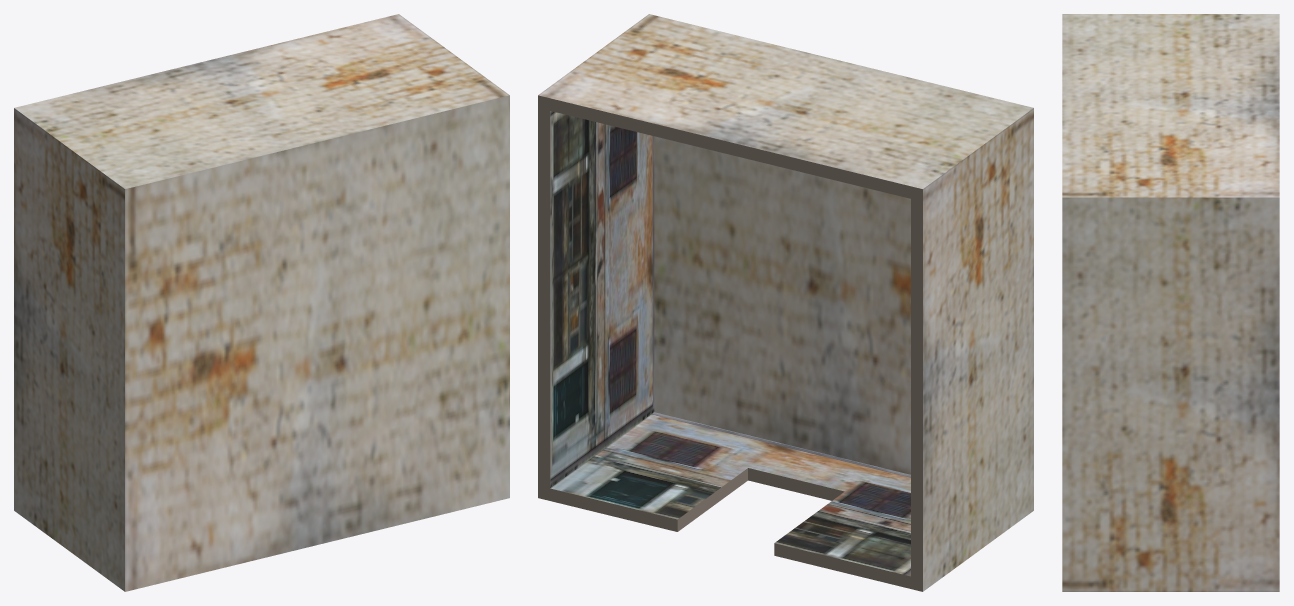
Rendered from 4x4S_wtf.obj.
3 renders of one model, left to right at view 1: azimuth 30°, elevation 25°; view 2: azimuth 150°, elevation 25°; view 3: azimuth 270°, elevation 25°, orthographic. The views are drawn at different scales.
Parts seen in each view (by area): view 1: group2; view 2: group2; view 3: group2.
Boxes of the visible parts, bbox=[...] form: group2: bbox=[14, 14, 509, 591]; group2: bbox=[538, 14, 1033, 591]; group2: bbox=[1062, 14, 1279, 591].
Bounding box in the file's own units: 660 × 660 × 330.
